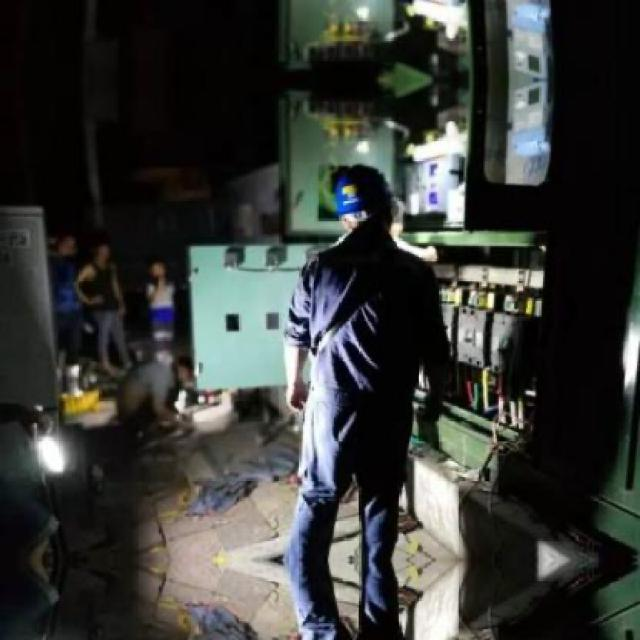con casco: (322, 170, 443, 253)
